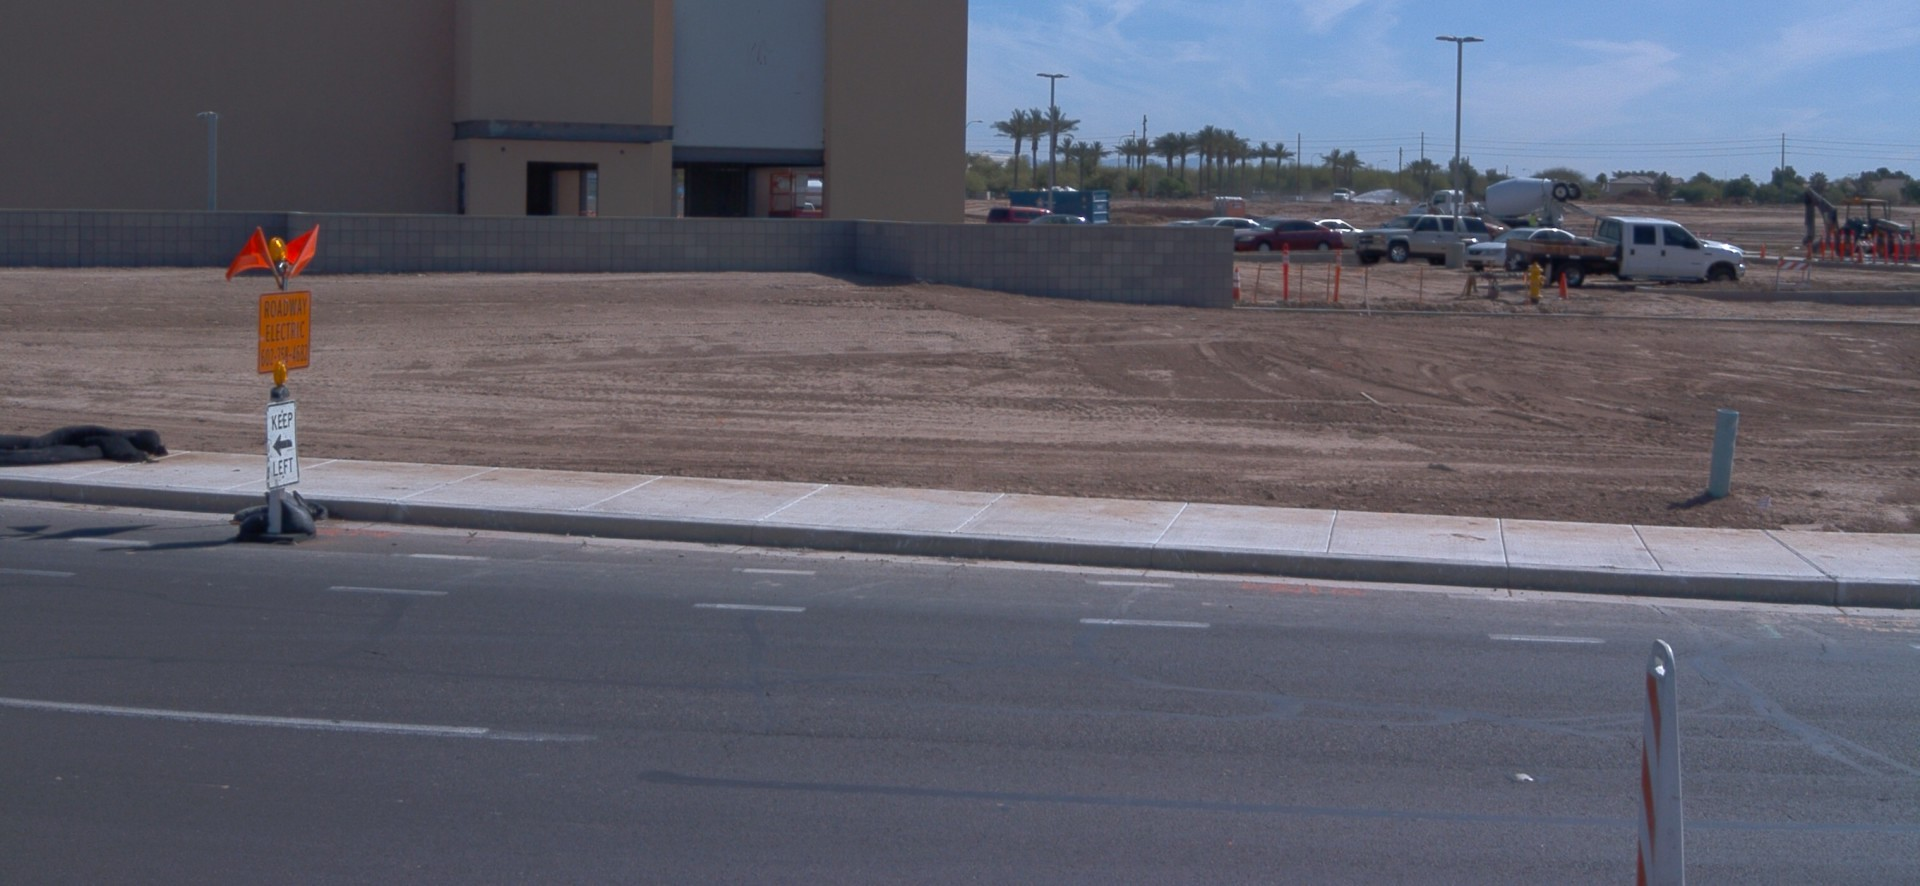TYPE_PEDESTRIAN: (1527, 209, 1540, 230)
TYPE_VEHICLE: (1503, 216, 1745, 288), (1423, 170, 1589, 227), (1802, 184, 1920, 262), (1353, 214, 1491, 265), (1465, 226, 1578, 273), (1234, 216, 1347, 255), (1449, 199, 1502, 237), (1308, 217, 1365, 249), (1192, 217, 1261, 236), (986, 206, 1051, 224), (1030, 214, 1095, 224), (1330, 186, 1353, 203), (1164, 220, 1199, 225)
